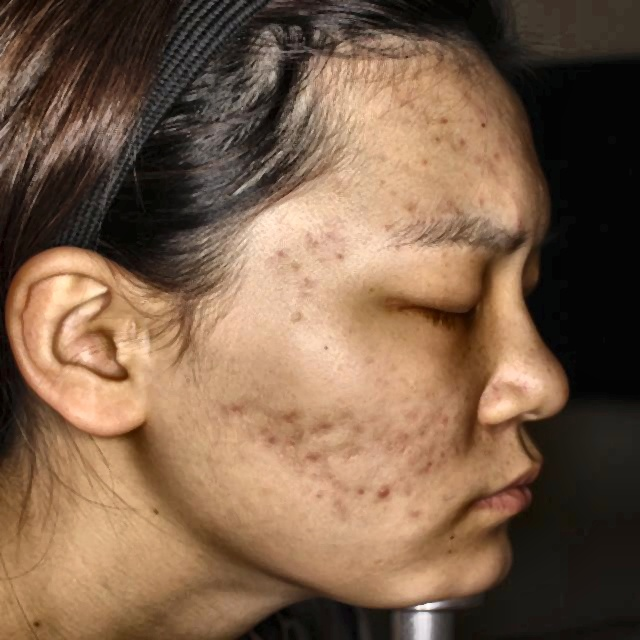comedone: (368, 478, 398, 512)
